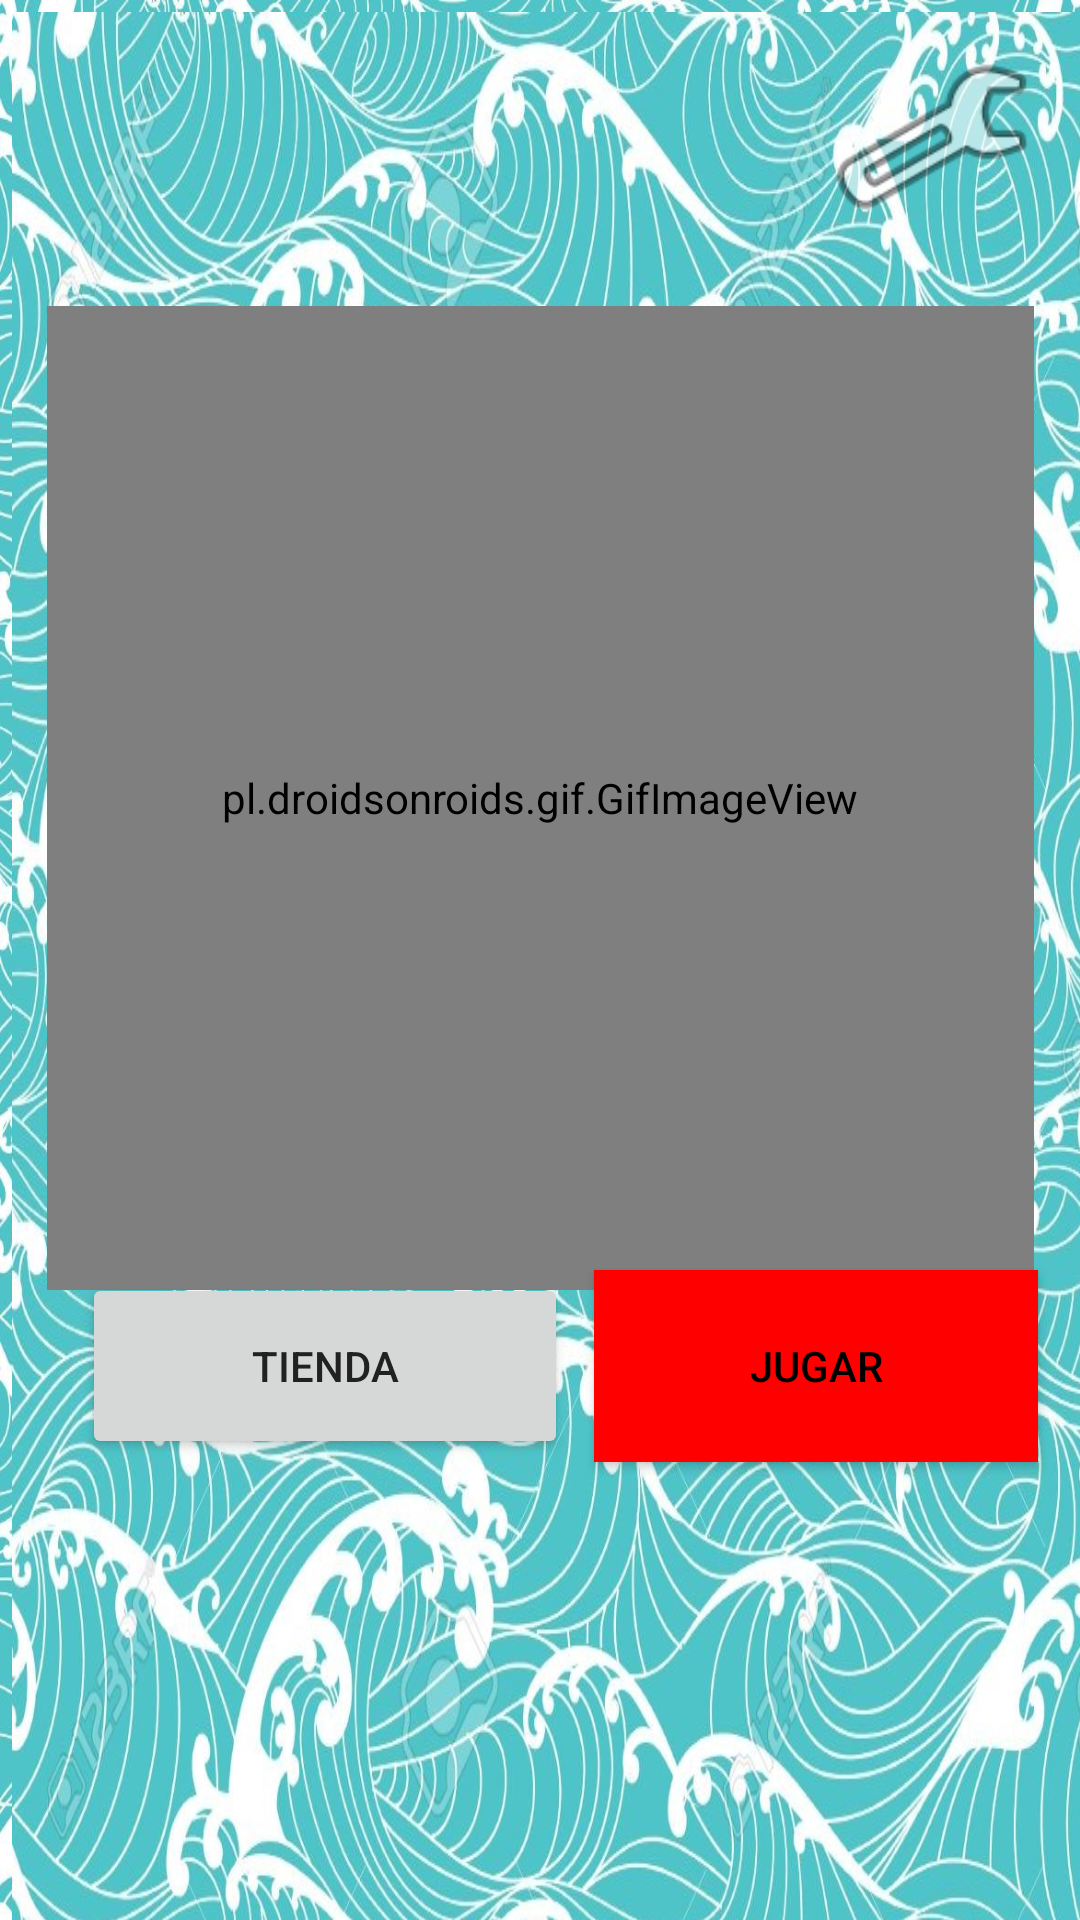

Named icons in this screenshot (1080w x 1920h) and their centers, (x=x, y=y):
preferences: (x=932, y=137)
